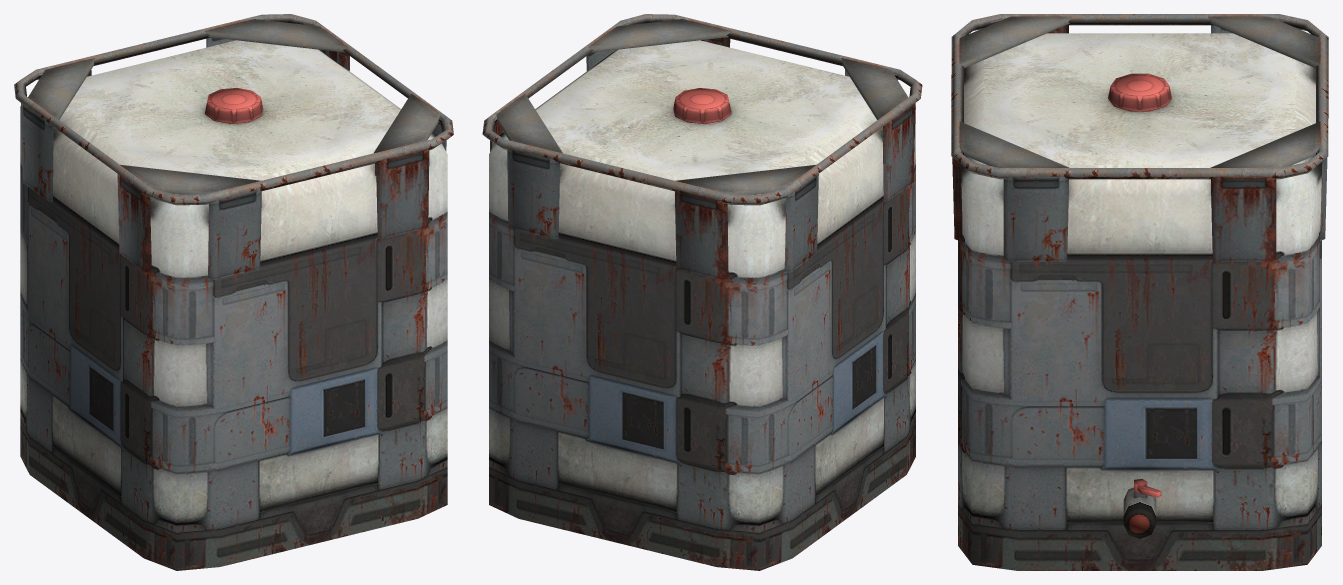
File: Container03.FBX
3 renders of one model, left to right at view 1: azimuth 30°, elevation 25°; view 2: azimuth 150°, elevation 25°; view 3: azimuth 270°, elevation 25°, orthographic. The views are drawn at different scales.
Visible parts, largest first — view 1: Container03; view 2: Container03; view 3: Container03.
Part boxes in pixels (x1=…): Container03: x1=14, y1=14, x2=453, y2=570; Container03: x1=482, y1=14, x2=922, y2=570; Container03: x1=951, y1=14, x2=1328, y2=570.
Bounding box in the file's own units: 0.9661 × 1.02 × 0.8518.
